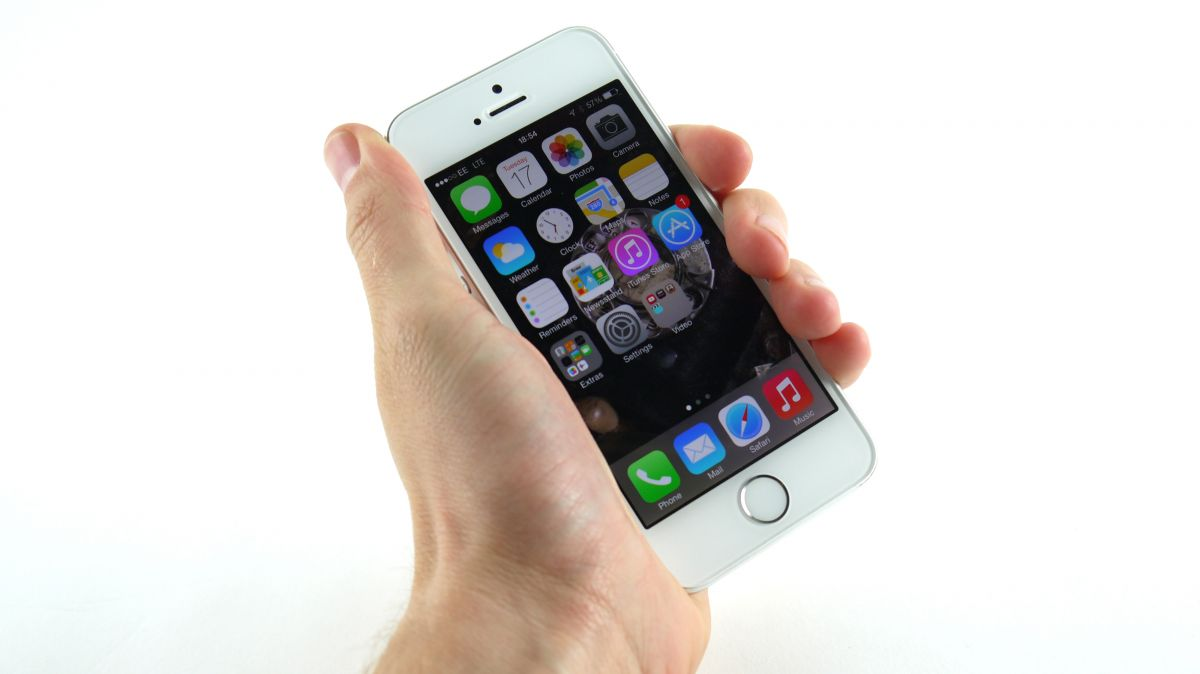smartphone: (387, 25, 877, 594)
